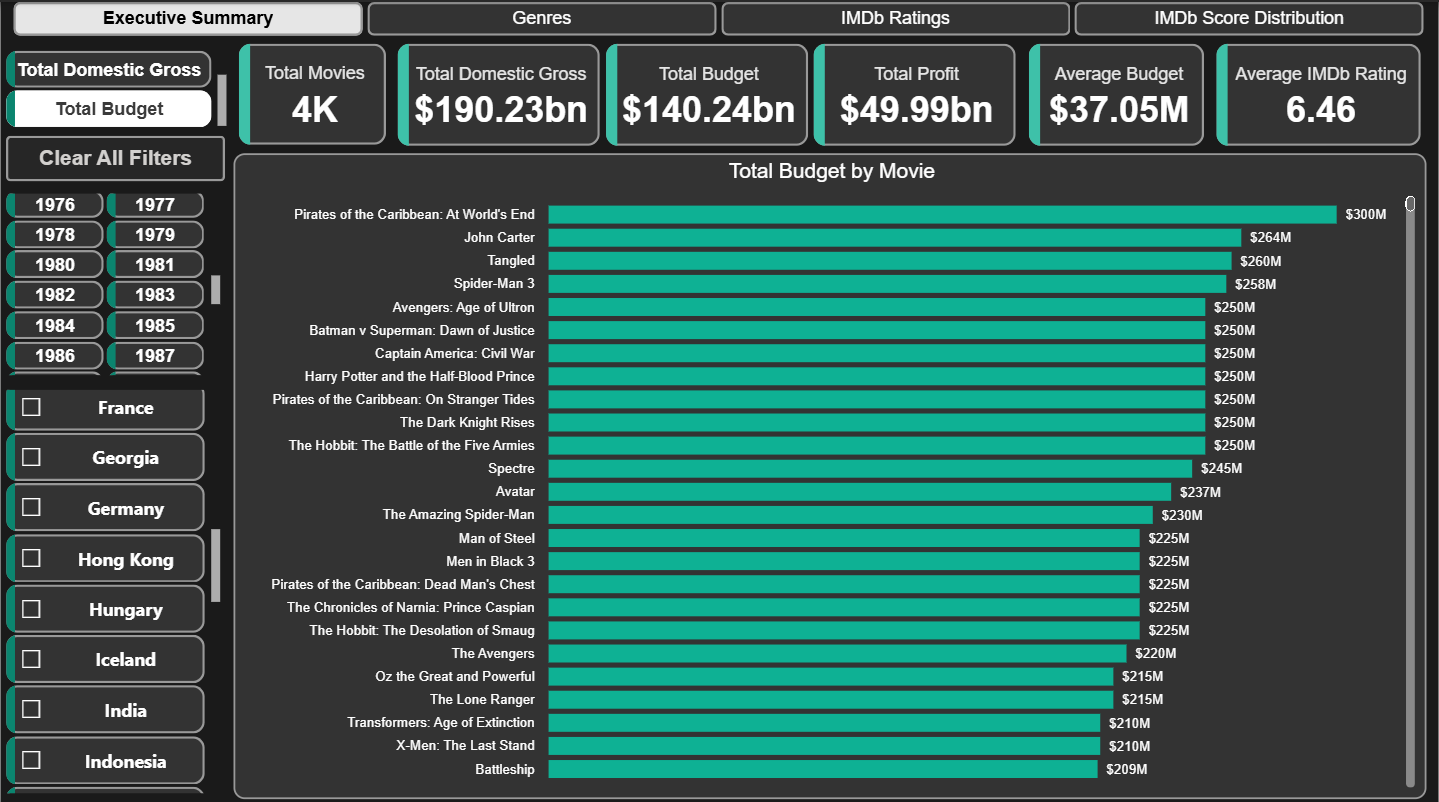

This screenshot's page, from the dashboard's own definition file:
{"tool":"powerbi","page":{"name":"Executive Summary","canvas":[1280,720],"ordinal":0},"visuals":[{"type":"pageNavigator","box":[11,0,1258.3,30.2],"z":0},{"type":"advancedSlicerVisual","fields":{"Values":["Parameter.Parameter"]},"box":[0,36.8,206.1,78.5],"z":500},{"type":"actionButton","box":[4.9,119,195.1,40.5],"z":1000},{"type":"advancedSlicerVisual","fields":{"Values":["cleaned_movies.title_year"]},"box":[0,165.6,200,171.8],"z":4000},{"type":"listSlicer","fields":{"Values":["cleaned_movies.country"]},"box":[0,341.1,200,374.2],"z":5000},{"type":"cardVisual","fields":{"Data":["_Measures.Total Movies"]},"box":[207.4,31.9,141.1,100.6],"z":8000},{"type":"cardVisual","fields":{"Data":["_Measures.Total Domestic Gross","_Measures.Total Budget","_Measures.Total Profit"]},"box":[348.5,31.9,562,101.8],"z":8500},{"type":"cardVisual","fields":{"Data":["_Measures.Average Budget"]},"box":[910.4,31.9,166.9,101.8],"z":9000},{"type":"cardVisual","fields":{"Data":["_Measures.Average IMDB Rating"]},"box":[1077.3,31.9,192.6,101.8],"z":9250},{"type":"clusteredBarChart","fields":{"Y":["_Measures.Total Profit"],"Category":["cleaned_movies.movie_title"]},"box":[207.4,135,1062.6,575.5],"z":9500}]}

Visuals, with their boxes in screenshot pixels (x1, y1, x2, y2), scaled from the page's 1280x720 canvas onto the 1439x802 screenshot:
pageNavigator: 12, 0, 1427, 34
advancedSlicerVisual - Parameter.Parameter: 0, 41, 232, 128
actionButton: 6, 133, 225, 178
advancedSlicerVisual - cleaned_movies.title_year: 0, 184, 225, 376
listSlicer - cleaned_movies.country: 0, 380, 225, 797
cardVisual - _Measures.Total Movies: 233, 36, 392, 148
cardVisual - _Measures.Total Domestic Gross x _Measures.Total Budget: 392, 36, 1024, 149
cardVisual - _Measures.Average Budget: 1023, 36, 1211, 149
cardVisual - _Measures.Average IMDB Rating: 1211, 36, 1428, 149
clusteredBarChart - _Measures.Total Profit x cleaned_movies.movie_title: 233, 150, 1428, 791
